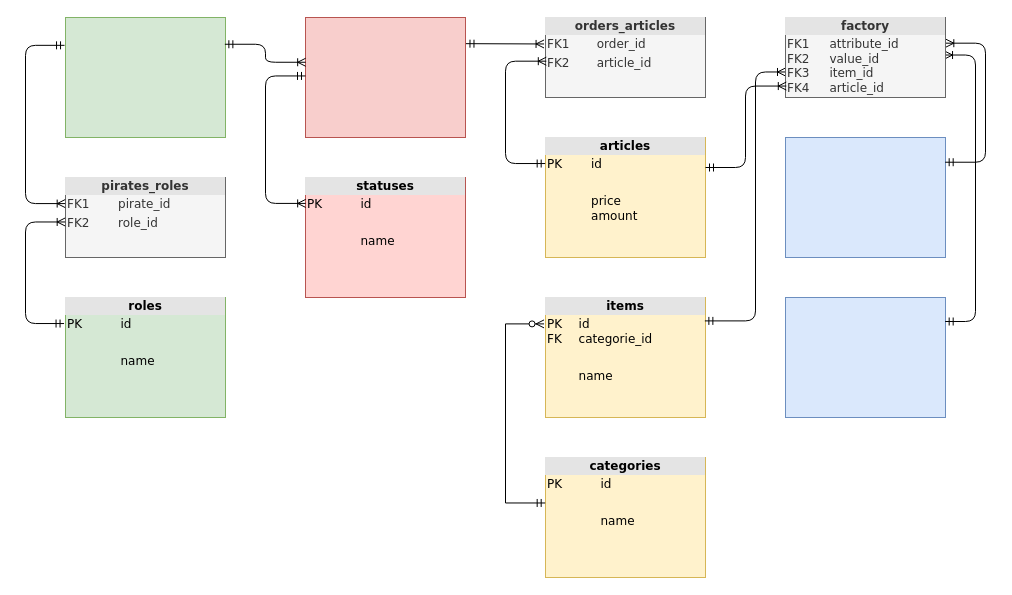
This 1012x595 diagram has some shape labels left out. The shapes that lost their labels are listed below. From the top down, each one's centre as x and y in pixels, then its label:
point 145,77: pirates PK id name username password
point 385,77: orders PK id FK1 FK2 pirate_id status_id orderDate completedDate
point 865,197: attributes PK id name
point 865,357: values PK id name
